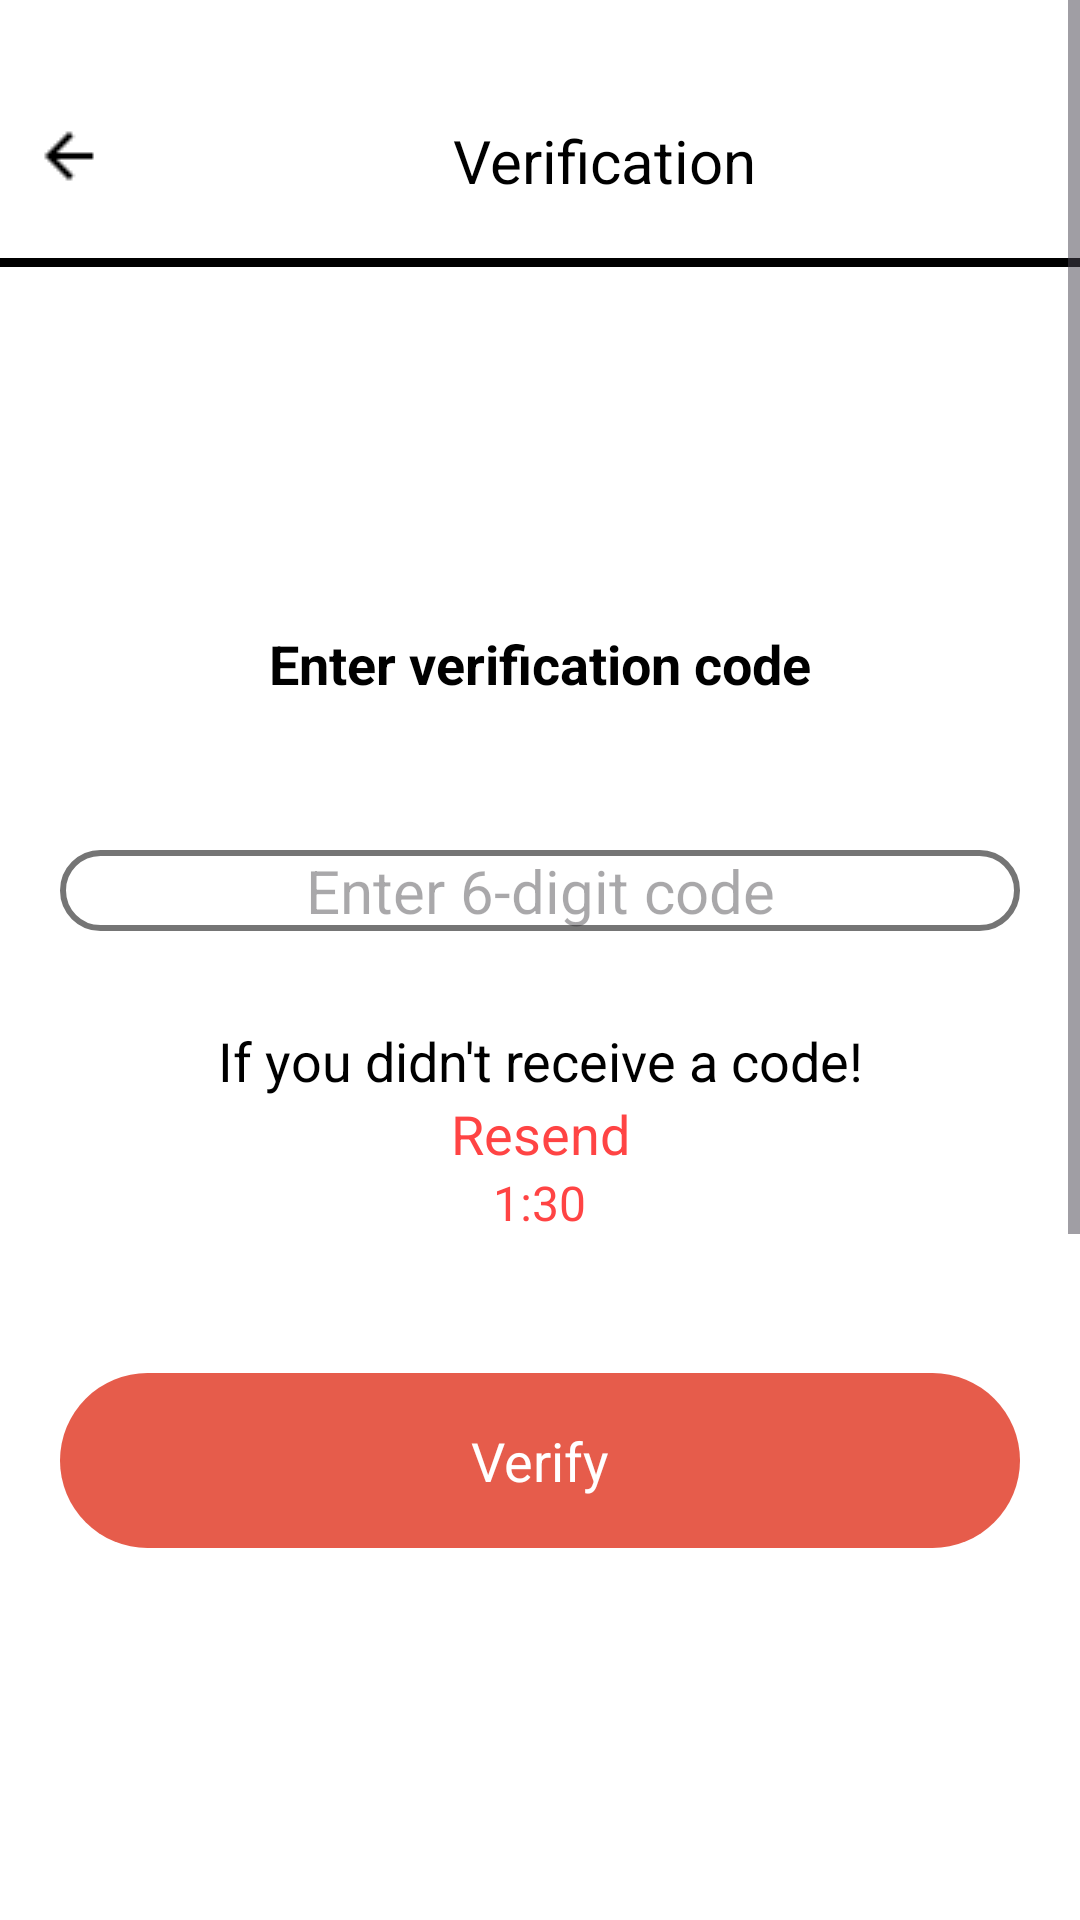

Icon click points for this 1080px x 1920px phone screenshot, format [x,y]:
back: [69,156]
